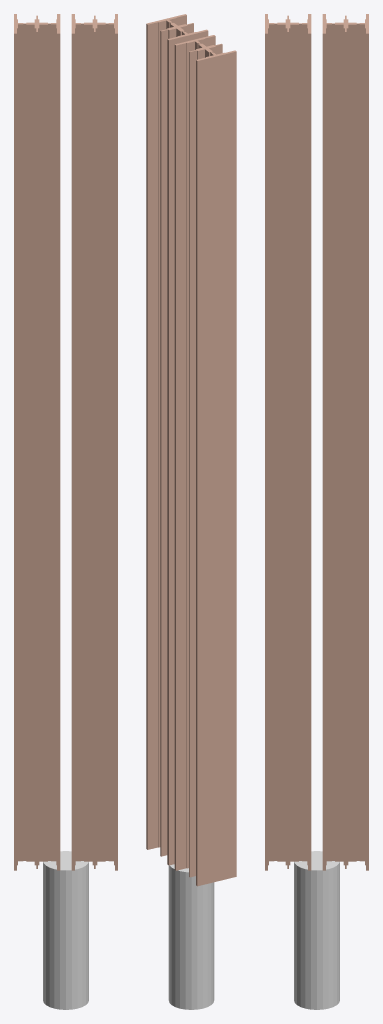
Rendered from double metalique.glb.
The picture shows the model from 3 angles, left to right: view 1: azimuth 90°, elevation 25°; view 2: azimuth 210°, elevation 25°; view 3: azimuth 270°, elevation 25°; orthographic projection.
Visible parts, largest first — view 1: imagetostl_mesh70, imagetostl_mesh84, imagetostl_mesh122, imagetostl_mesh125, imagetostl_mesh66, imagetostl_mesh67, imagetostl_mesh100, imagetostl_mesh104, imagetostl_mesh26, imagetostl_mesh88, imagetostl_mesh44, imagetostl_mesh99 (+26 smaller); view 2: imagetostl_mesh29, imagetostl_mesh54, imagetostl_mesh98, imagetostl_mesh41, imagetostl_mesh48, imagetostl_mesh47, imagetostl_mesh33, imagetostl_mesh93, imagetostl_mesh53, imagetostl_mesh73, imagetostl_mesh28, imagetostl_mesh75 (+17 smaller); view 3: imagetostl_mesh40, imagetostl_mesh60, imagetostl_mesh114, imagetostl_mesh118, imagetostl_mesh31, imagetostl_mesh56, imagetostl_mesh81, imagetostl_mesh110, imagetostl_mesh53, imagetostl_mesh111, imagetostl_mesh38, imagetostl_mesh126 (+26 smaller).
Part boxes in pixels (bbox=[...]): imagetostl_mesh70: bbox=[84, 24, 92, 861]; imagetostl_mesh84: bbox=[97, 24, 105, 861]; imagetostl_mesh122: bbox=[39, 24, 47, 861]; imagetostl_mesh125: bbox=[26, 24, 34, 861]; imagetostl_mesh66: bbox=[75, 24, 80, 861]; imagetostl_mesh67: bbox=[108, 24, 113, 861]; imagetostl_mesh100: bbox=[51, 24, 56, 861]; imagetostl_mesh104: bbox=[18, 24, 23, 861]; imagetostl_mesh26: bbox=[57, 33, 60, 870]; imagetostl_mesh88: bbox=[71, 33, 74, 870]; imagetostl_mesh44: bbox=[105, 24, 108, 860]; imagetostl_mesh99: bbox=[23, 24, 26, 860]; imagetostl_mesh29: bbox=[197, 51, 236, 886]; imagetostl_mesh54: bbox=[147, 22, 158, 849]; imagetostl_mesh98: bbox=[176, 43, 186, 870]; imagetostl_mesh41: bbox=[189, 50, 196, 877]; imagetostl_mesh48: bbox=[161, 30, 168, 856]; imagetostl_mesh47: bbox=[169, 31, 208, 865]; imagetostl_mesh33: bbox=[158, 20, 166, 847]; imagetostl_mesh93: bbox=[187, 41, 194, 868]; imagetostl_mesh53: bbox=[167, 39, 168, 865]; imagetostl_mesh73: bbox=[160, 31, 161, 856]; imagetostl_mesh28: bbox=[196, 60, 197, 885]; imagetostl_mesh75: bbox=[146, 24, 147, 849]; imagetostl_mesh40: bbox=[277, 24, 285, 861]; imagetostl_mesh60: bbox=[290, 24, 298, 861]; imagetostl_mesh114: bbox=[335, 24, 343, 861]; imagetostl_mesh118: bbox=[348, 24, 356, 861]; imagetostl_mesh31: bbox=[359, 24, 364, 861]; imagetostl_mesh56: bbox=[269, 24, 274, 861]; imagetostl_mesh81: bbox=[302, 24, 307, 861]; imagetostl_mesh110: bbox=[326, 24, 331, 861]; imagetostl_mesh53: bbox=[308, 33, 311, 870]; imagetostl_mesh111: bbox=[322, 33, 325, 870]; imagetostl_mesh38: bbox=[274, 24, 277, 860]; imagetostl_mesh126: bbox=[356, 24, 359, 860].
Bounding box in the file's own units: 0.2362 × 5.51 × 0.5315.
